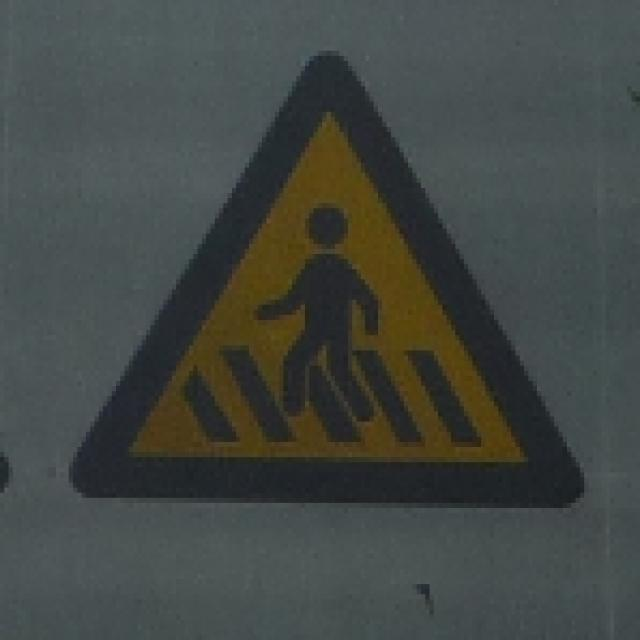Crossing: (70, 52, 592, 525)
